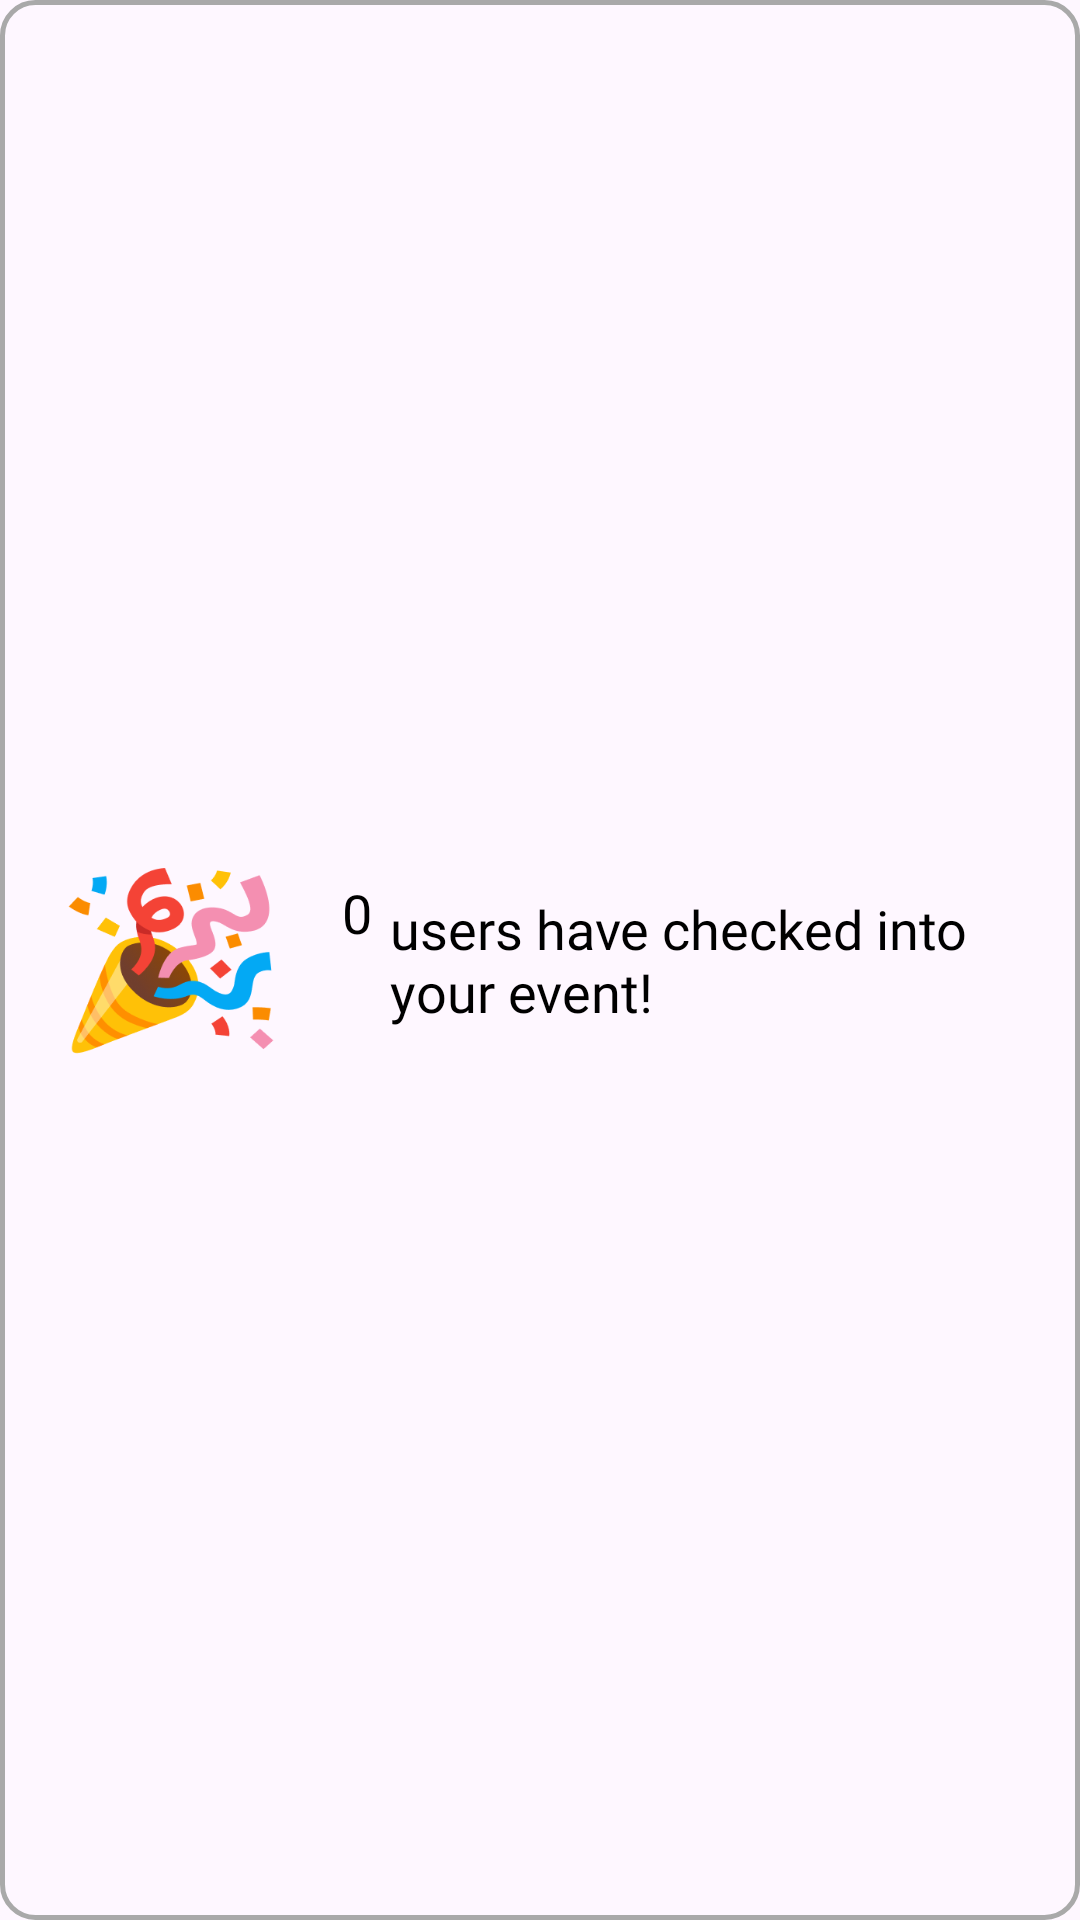

Point at icon controls on the screen. Image size 1080 × 1920, points as (x,y).
milestone party popper: (170,961)
